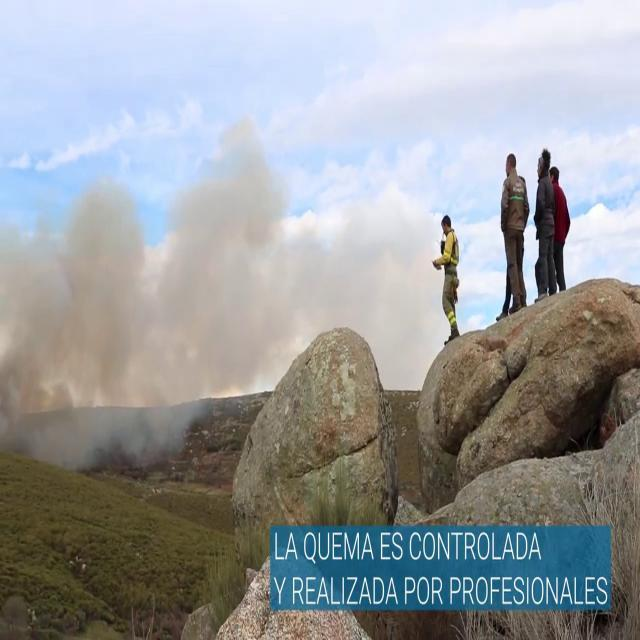Smoke: (0, 130, 302, 464)
